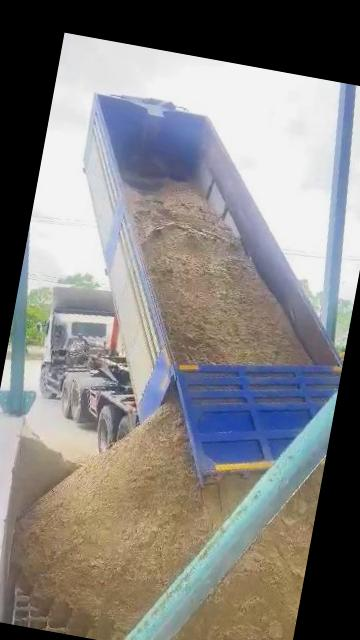sand: (13, 403, 256, 640), (128, 181, 310, 364), (174, 470, 323, 640)
